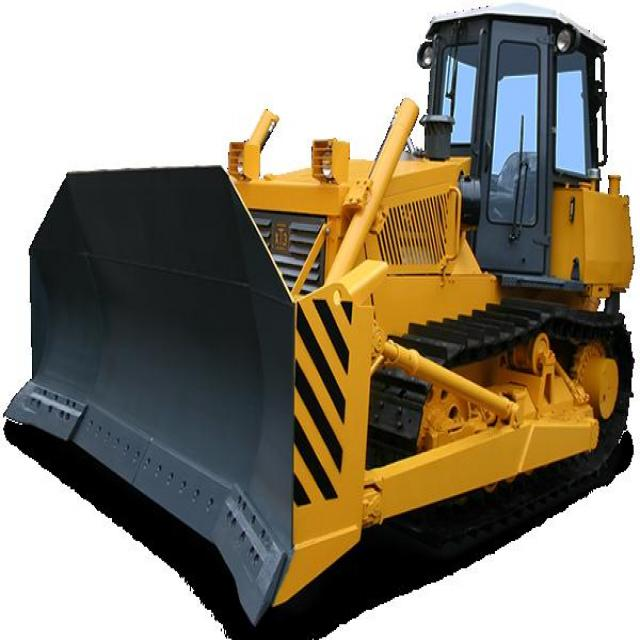Bulldozer: (6, 9, 638, 630)
